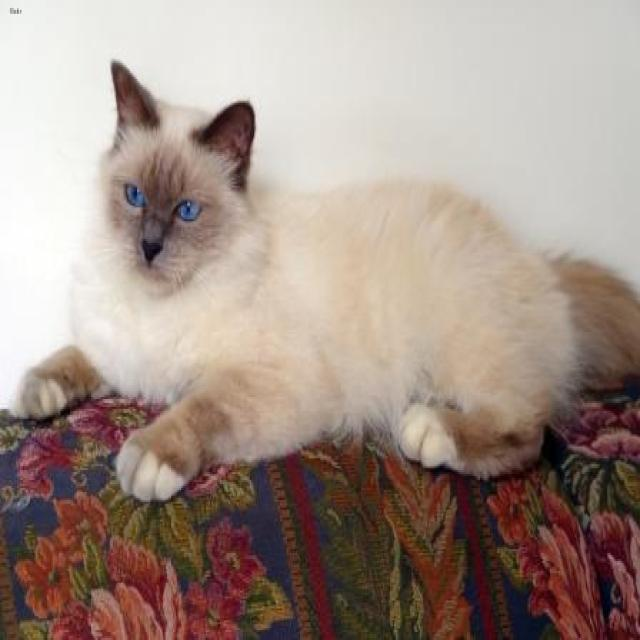Birman: (94, 53, 277, 301)
